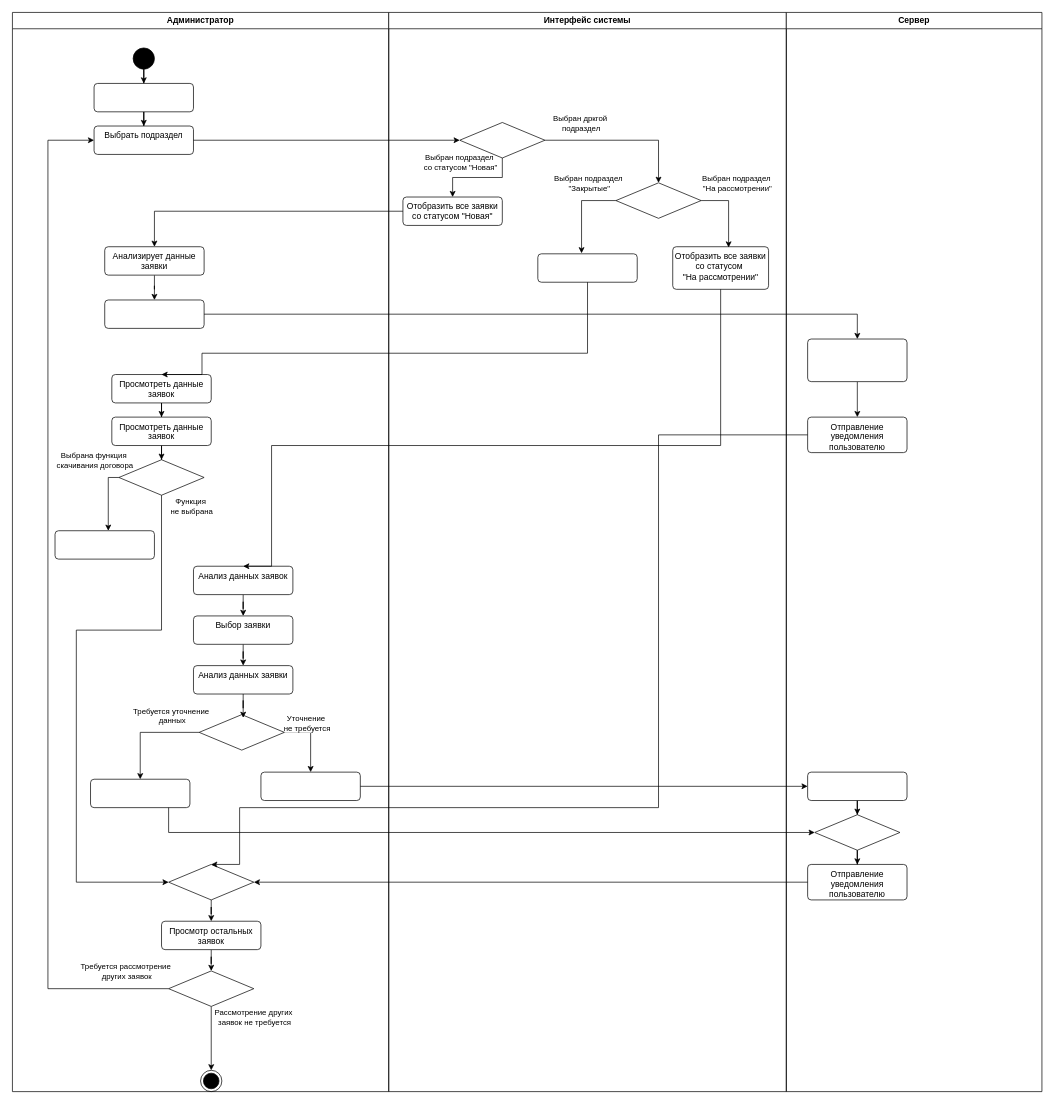
Some shapes in this 1054 by 1104 pixel diagram are drawn without their labels. Each missing label, with the centre of its shape:
Войти в раздел "Все заявки": pixel 143 97
Дабавить комментарий к заявке: pixel 140 793
Изменение статуса заявки на "Закрыта": pixel 857 786
Изменение статуса заявки на "на рассмотрении": pixel 857 360
Назначает исполнителя: pixel 154 313
Назначить время приема в офисе: pixel 310 786
Отобразить все заявки со статусом "Закрыта": pixel 587 267
Скачать договор в формате PDF: pixel 104 544
